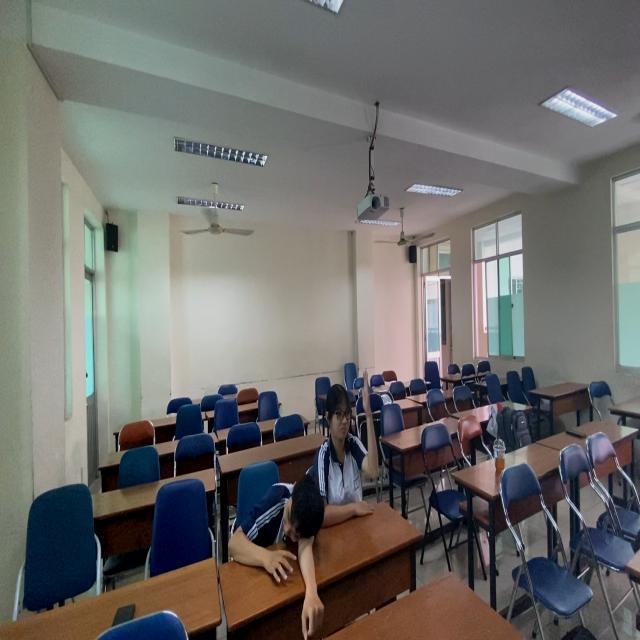raise_hand: (314, 370, 384, 538)
sleep: (230, 470, 327, 572)
